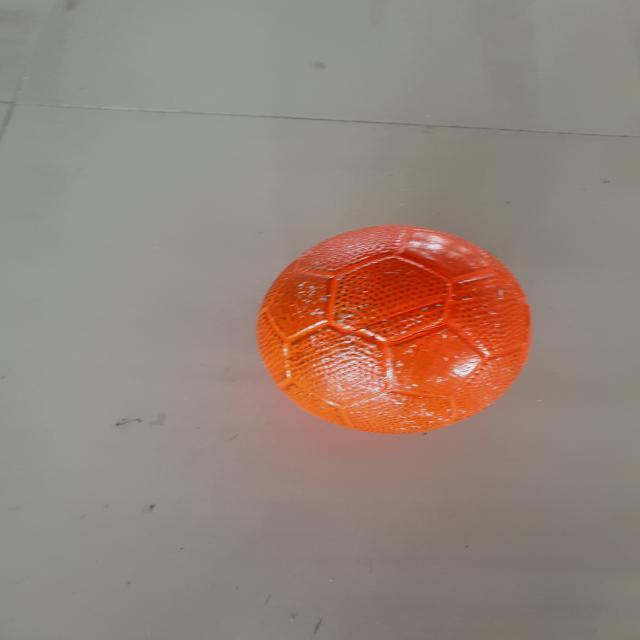bola: (250, 218, 537, 444)
